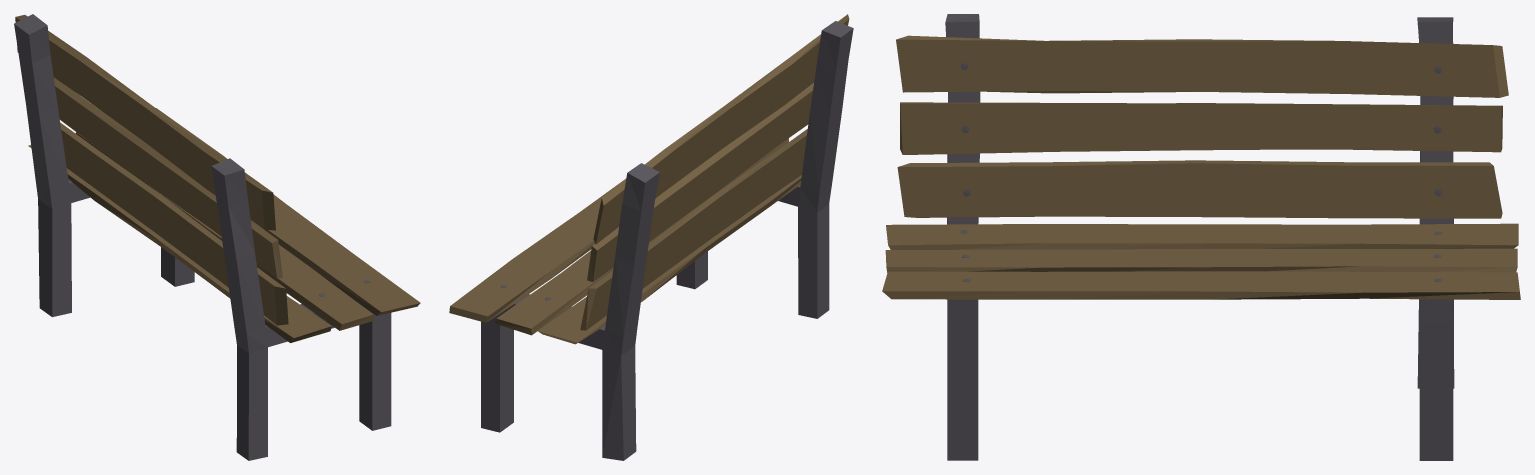
The model's file is Bank.fbx.
The picture shows the model from 3 angles, left to right: view 1: azimuth 30°, elevation 25°; view 2: azimuth 150°, elevation 25°; view 3: azimuth 270°, elevation 25°; orthographic projection. The views are drawn at different scales.
Visible parts, largest first — view 1: Zylinder_6; view 2: Zylinder_6; view 3: Zylinder_6.
Boxes of the visible parts, <box> form: Zylinder_6: <box>14,14,420,460</box>; Zylinder_6: <box>449,14,853,460</box>; Zylinder_6: <box>882,14,1520,460</box>.
Bounding box in the file's own units: 164 × 268 × 439.
